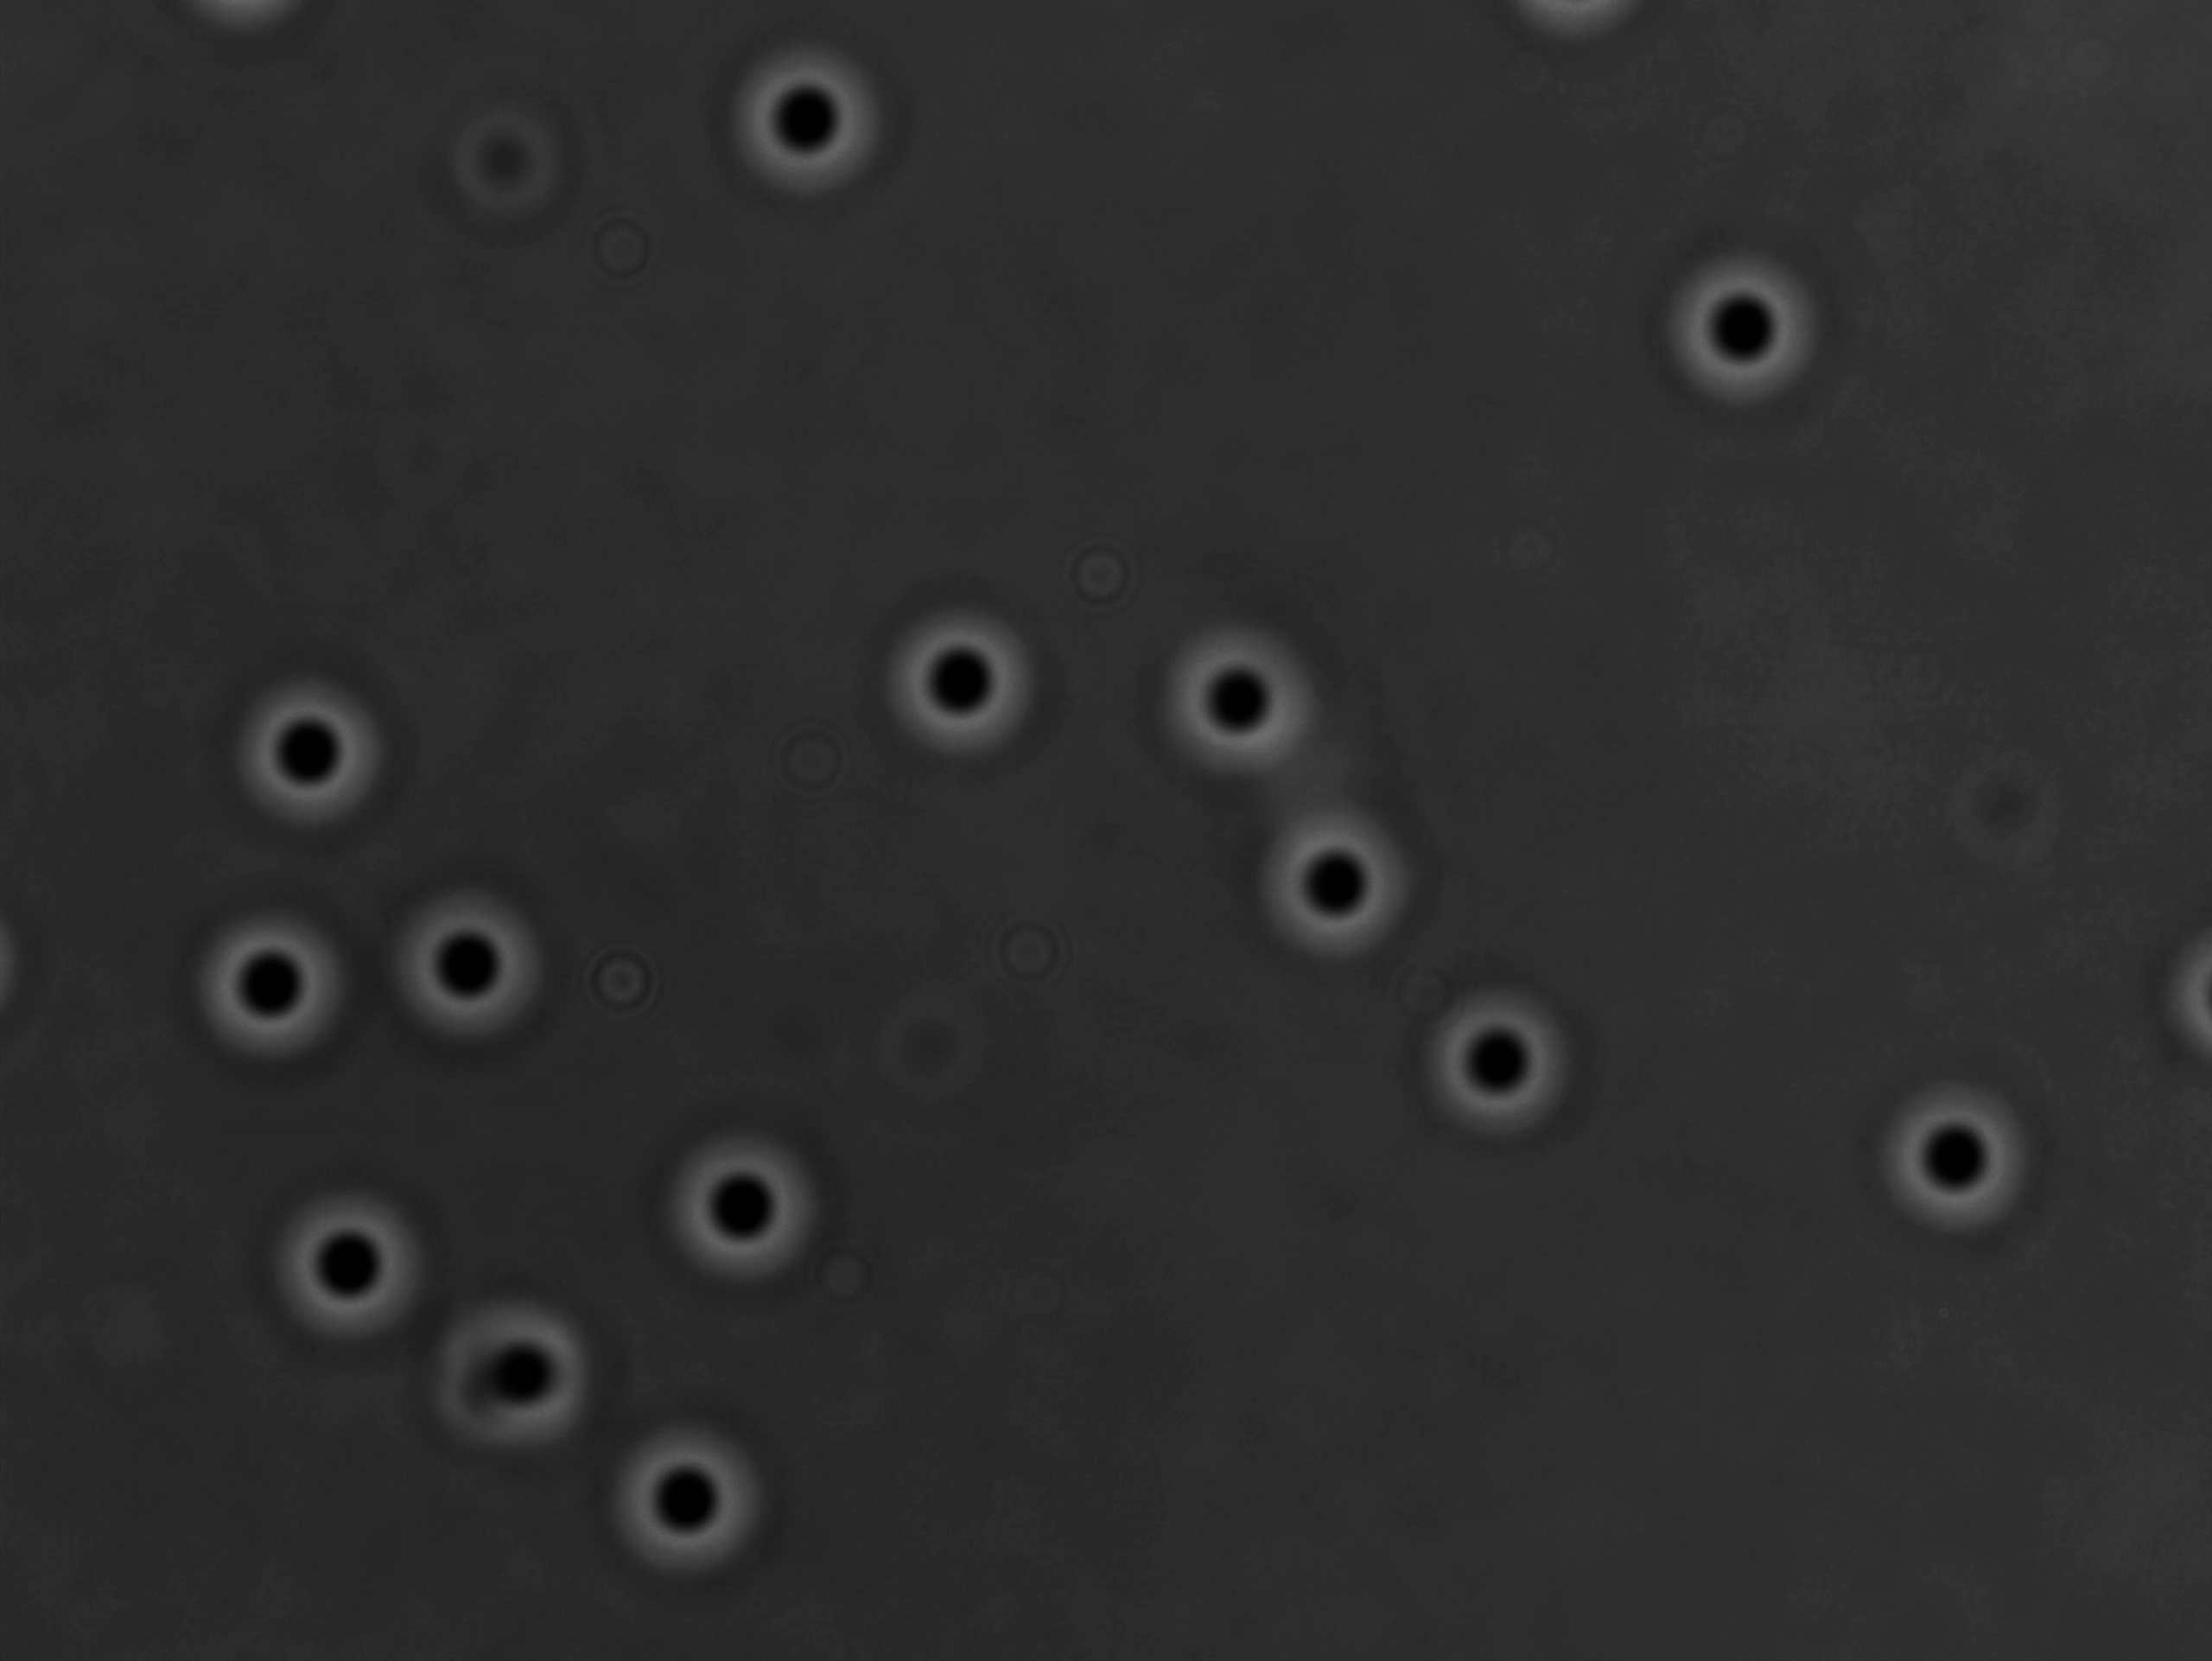depth:-80: (1123, 595, 1343, 803), (1396, 960, 1605, 1171), (1225, 771, 1441, 972), (855, 581, 1068, 780), (701, 5, 904, 202), (1858, 1075, 2065, 1260), (216, 654, 415, 846), (598, 1398, 790, 1589), (1652, 239, 1844, 429), (375, 874, 565, 1066), (176, 900, 373, 1080), (420, 1288, 614, 1467), (255, 1164, 443, 1343), (645, 1111, 829, 1291)
